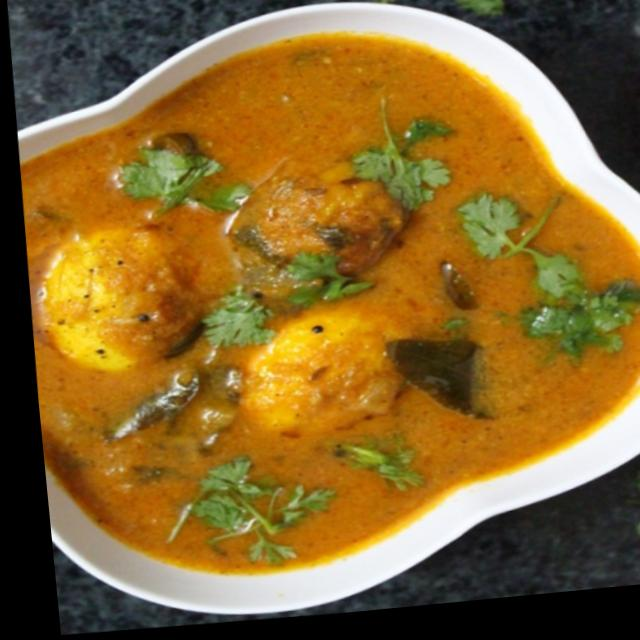EGG: (17, 14, 640, 581)
